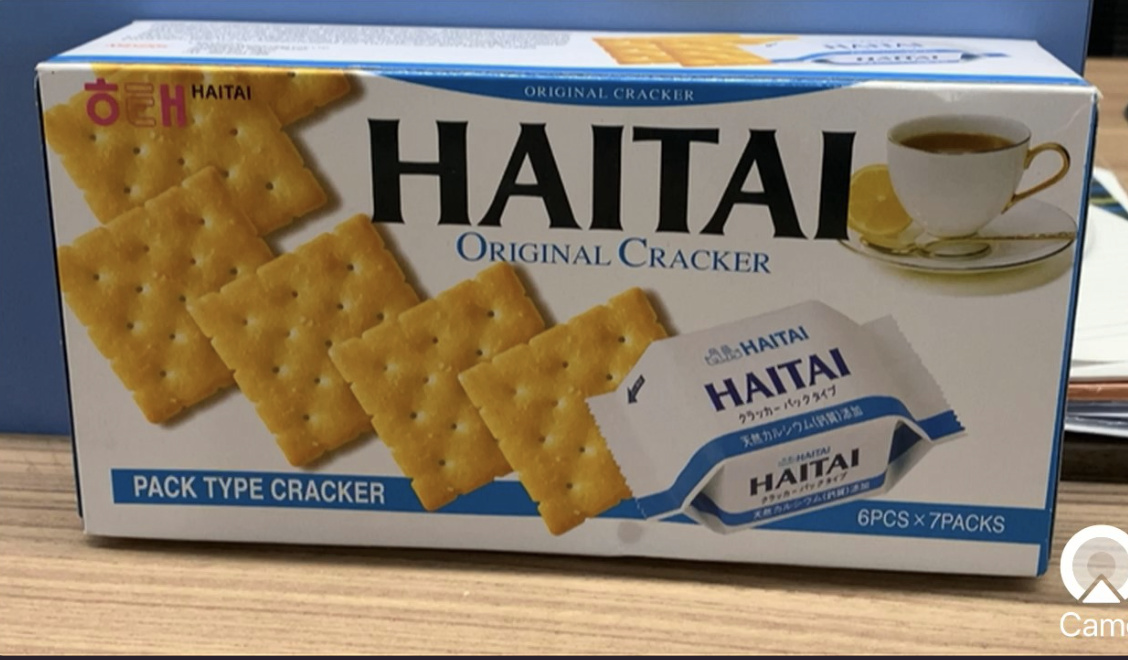crackers_150g: (78, 81, 1037, 553)
